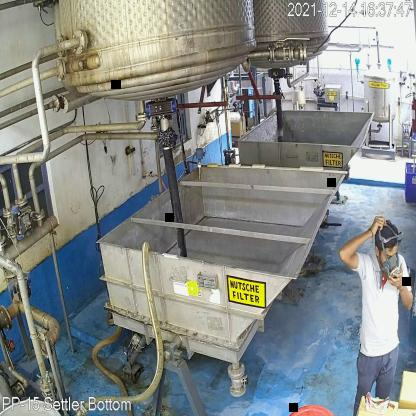no_glove: (333, 211, 387, 261), (390, 270, 414, 316)
